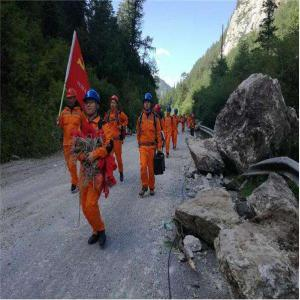blue: (85, 89, 102, 119), (143, 93, 153, 112), (166, 106, 172, 118)
red: (66, 88, 78, 108), (110, 95, 120, 113), (153, 104, 161, 117)
